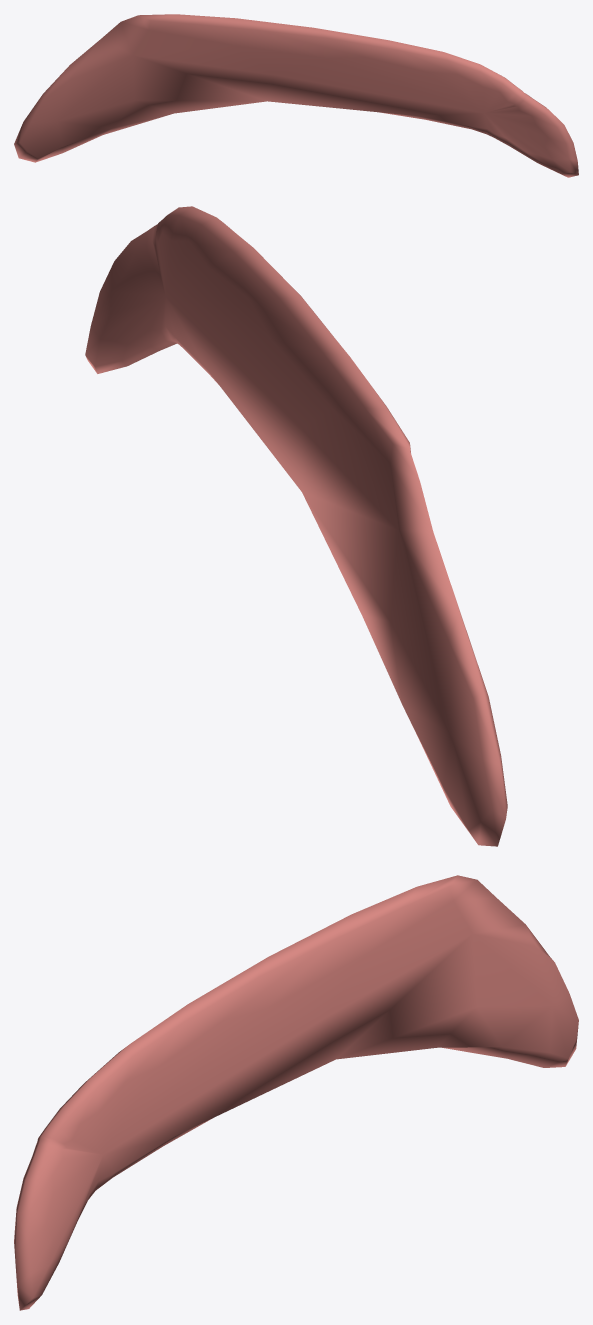
The picture shows the model from 3 angles, top to bottom: view 1: azimuth 30°, elevation 25°; view 2: azimuth 150°, elevation 25°; view 3: azimuth 270°, elevation 25°; orthographic projection. The views are drawn at different scales.
Parts seen in each view (by area): view 1: ZA_fb7a864cb493f6ff; view 2: ZA_fb7a864cb493f6ff; view 3: ZA_fb7a864cb493f6ff.
Boxes of the visible parts, x1,y1,x2,y2 form: ZA_fb7a864cb493f6ff: [14, 14, 578, 177]; ZA_fb7a864cb493f6ff: [85, 206, 507, 846]; ZA_fb7a864cb493f6ff: [14, 875, 578, 1310].
Bounding box in the file's own units: 0.0124 × 0.00496 × 0.01.
